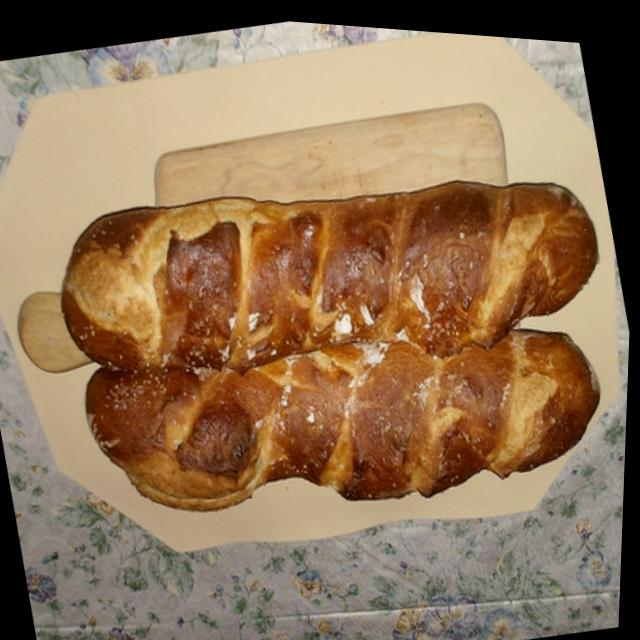面包点心: (49, 111, 626, 554)
